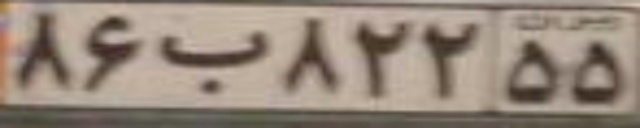2: (422, 20, 481, 99), (355, 20, 408, 100)
5: (503, 40, 560, 105), (570, 42, 624, 103)
6: (82, 15, 139, 91)
8: (17, 14, 73, 92), (282, 17, 335, 94)
be: (161, 25, 267, 96)
